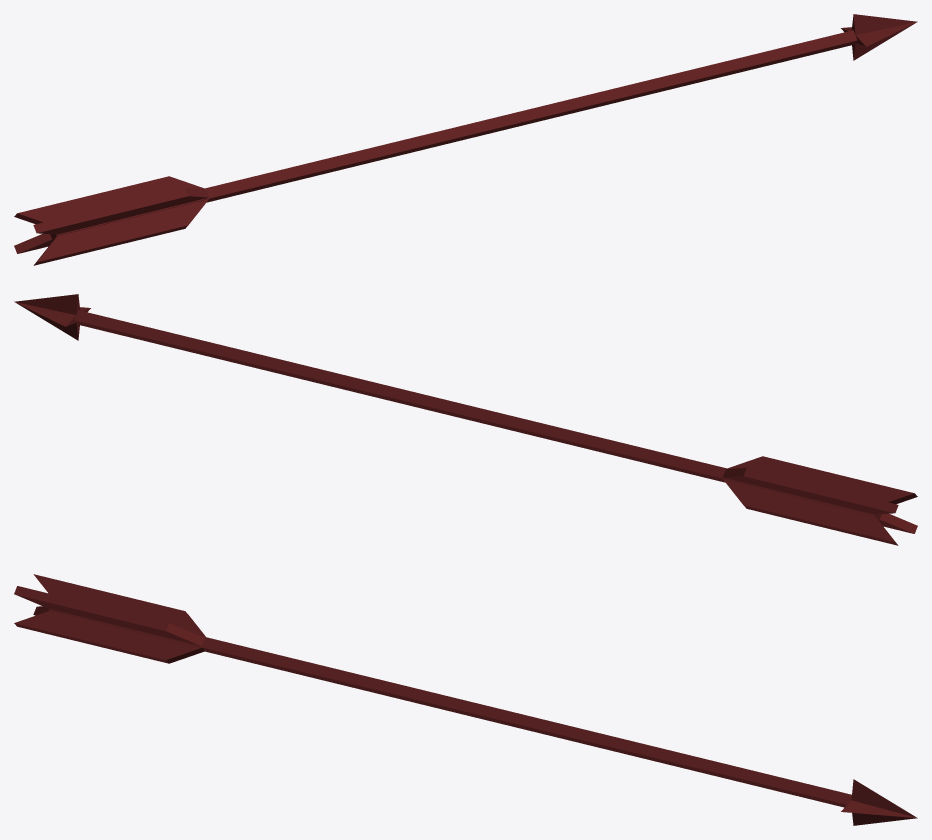
File: Arrow.fbx
3 views of the same model, one above another, from view 1: azimuth 30°, elevation 25°; view 2: azimuth 150°, elevation 25°; view 3: azimuth 330°, elevation 25° (orthographic).
Parts seen in each view (by area): view 1: Cube; view 2: Cube; view 3: Cube.
Part boxes in pixels (x1,y1,x2,y2): Cube: [14, 14, 917, 265]; Cube: [14, 294, 917, 545]; Cube: [14, 574, 917, 825].
Bounding box in the file's own units: 1800 × 90.25 × 90.25.
